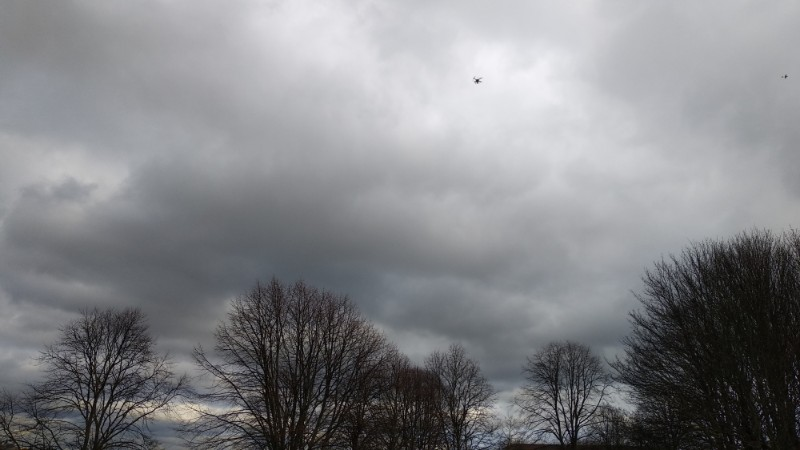drone: (472, 76, 484, 85)
